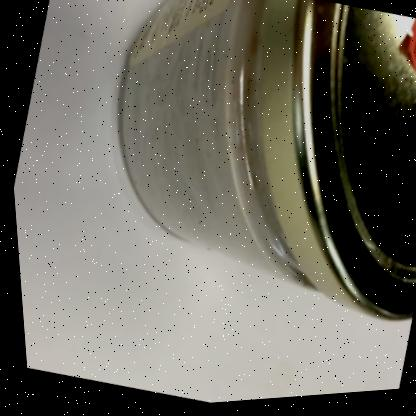Glass: (114, 0, 416, 325)
